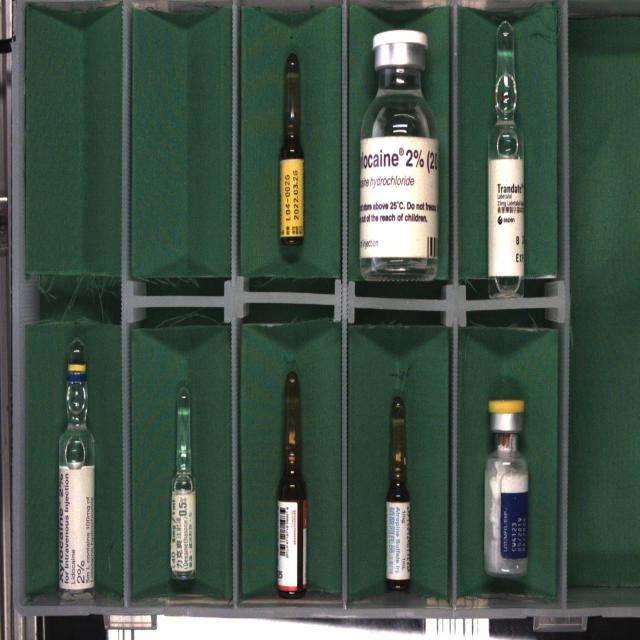Vials: (360, 30, 439, 281), (485, 399, 528, 577)
